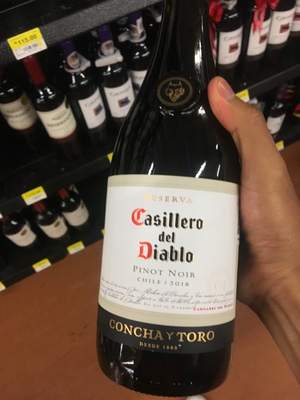casillero del diablo pinot noir: (78, 23, 274, 400)
